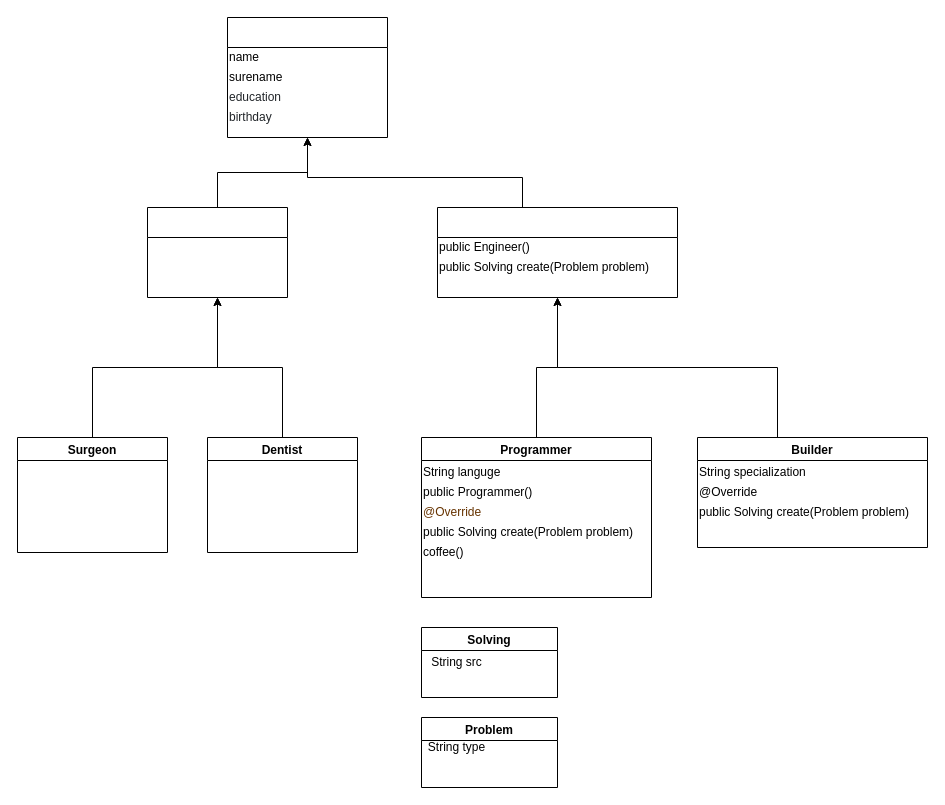
This 945x805 diagram has some shape labels left out. Each missing label, with the box of its shape:
Doctor: (146, 206, 288, 298)
Engeneer: (436, 206, 678, 298)
Professon: (226, 16, 388, 138)
